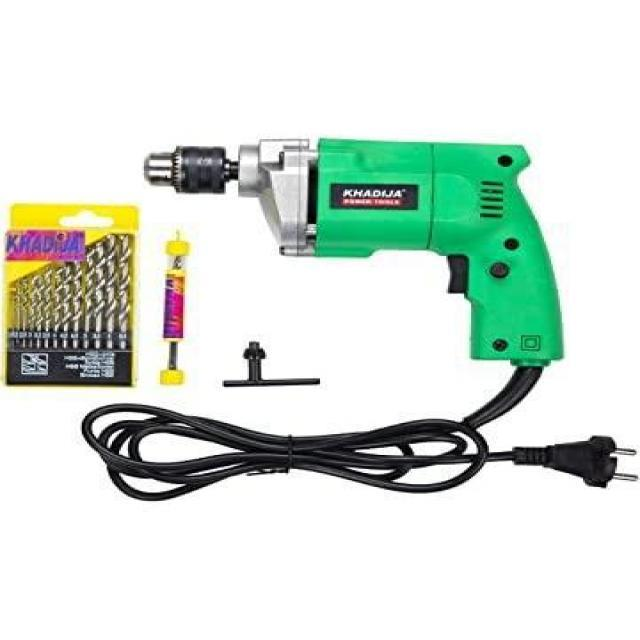drill: (143, 137, 565, 431)
